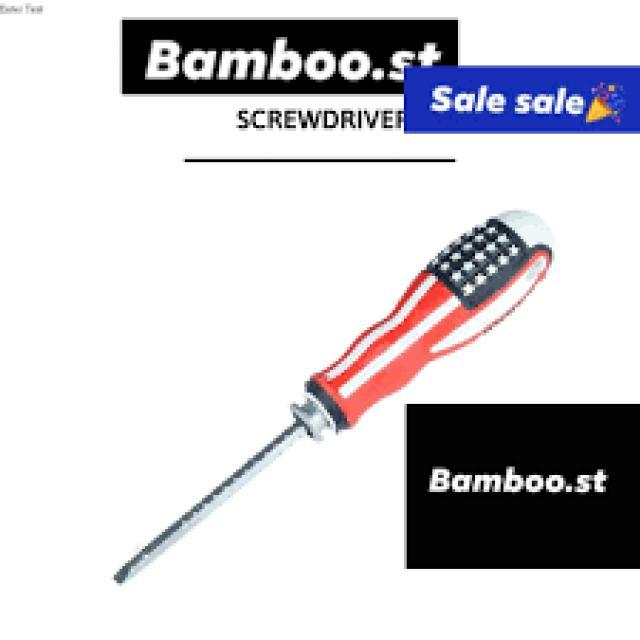screwdriver: (101, 206, 562, 590)
